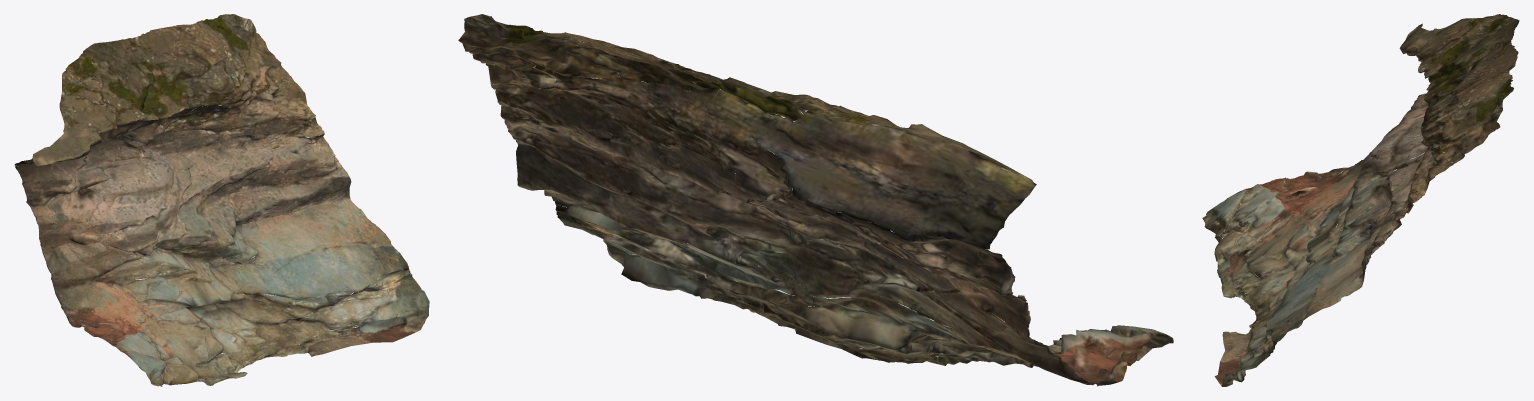
File: rock_face_01.glb
3 views of the same model, side by side, from view 1: azimuth 30°, elevation 25°; view 2: azimuth 150°, elevation 25°; view 3: azimuth 270°, elevation 25° (orthographic). The views are drawn at different scales.
Parts seen in each view (by area): view 1: rock_face_01; view 2: rock_face_01; view 3: rock_face_01.
Boxes of the visible parts, left/top/right/bottom form: rock_face_01: left=14, top=14, right=429, bottom=386; rock_face_01: left=458, top=14, right=1173, bottom=386; rock_face_01: left=1202, top=14, right=1519, bottom=386.
Bounding box in the file's own units: 4.95 × 3.57 × 3.83.
Materials: 1 (1 with a texture image).
